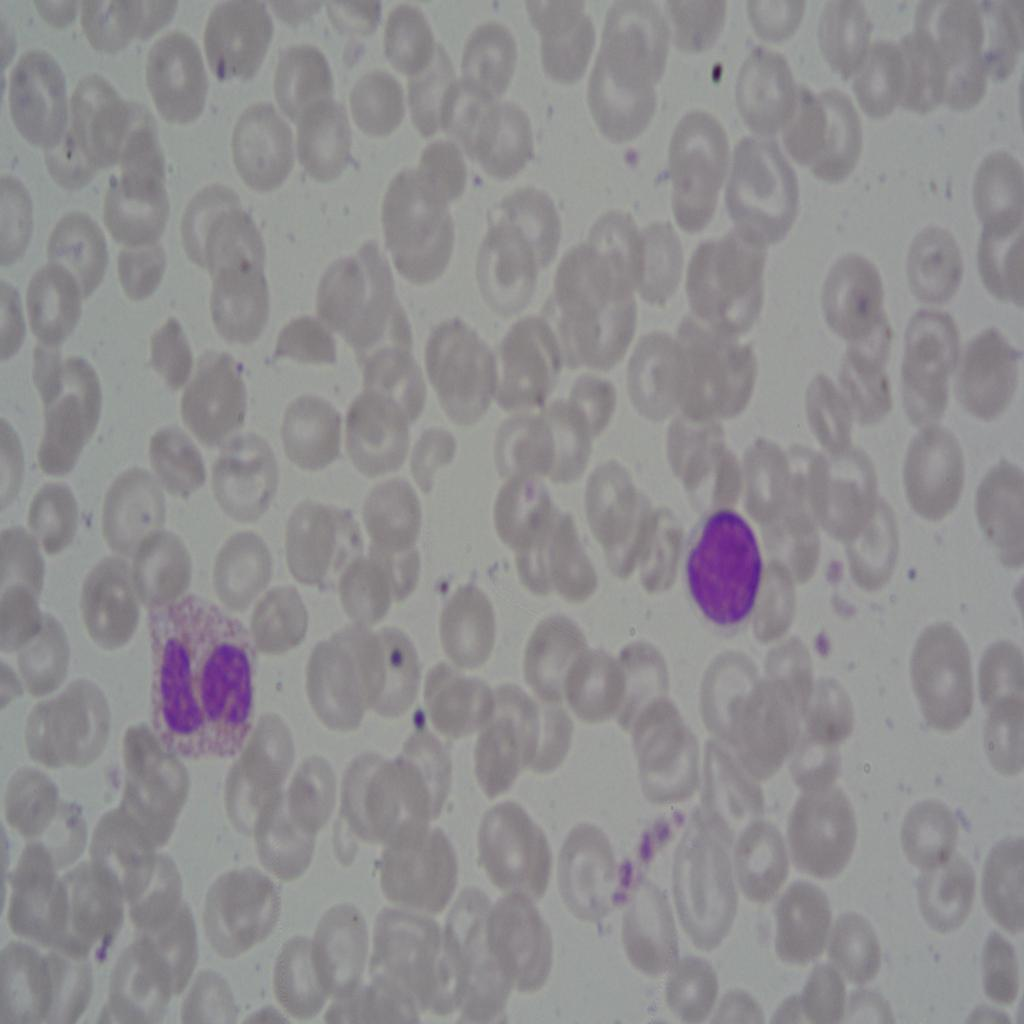Eosinofil: (142, 575, 275, 761)
Eritrosit: (619, 848, 647, 907), (430, 564, 458, 616), (706, 47, 733, 94), (408, 696, 435, 742), (379, 632, 408, 671), (615, 137, 638, 172), (634, 832, 652, 866)
Myeoblast: (673, 502, 764, 644)
Platelet: (810, 619, 846, 679)
